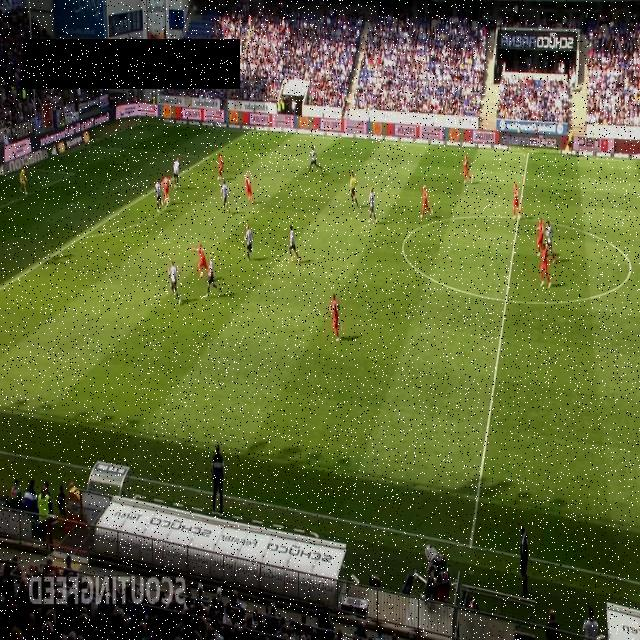Ball: (217, 176, 220, 182)
Corner: (136, 91, 146, 127)
GoalKeeper: (20, 164, 28, 195)
Referee: (349, 172, 359, 208)
TEAM 1: (190, 244, 210, 278), (538, 242, 552, 289), (328, 294, 341, 342), (421, 184, 434, 218), (160, 175, 172, 207), (512, 182, 522, 219), (535, 216, 544, 255), (463, 154, 473, 184), (244, 173, 253, 204), (217, 152, 224, 182)
TEAM 2: (204, 253, 220, 299), (168, 260, 182, 306), (288, 224, 300, 264), (545, 220, 555, 260), (308, 146, 322, 174), (368, 187, 378, 225), (220, 178, 230, 212), (154, 178, 163, 212), (244, 223, 252, 261), (172, 157, 180, 189)
